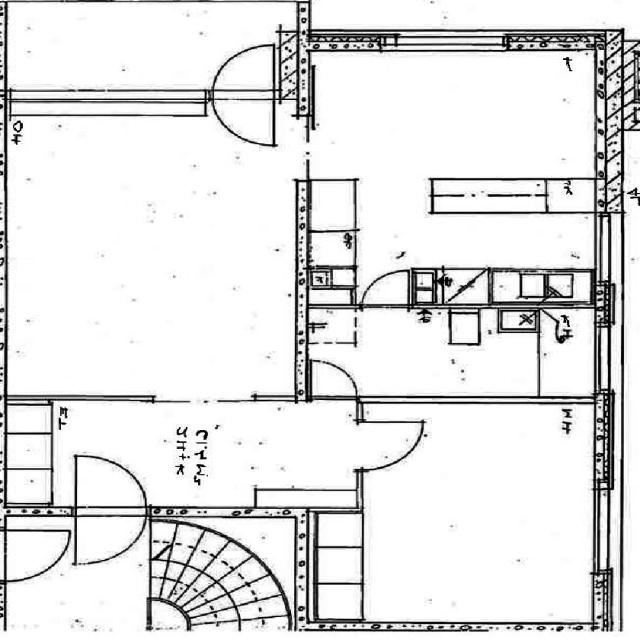door: (76, 452, 147, 517), (76, 507, 147, 572), (214, 89, 275, 147), (214, 42, 275, 100), (357, 420, 426, 470), (360, 266, 410, 309), (313, 361, 357, 402)
